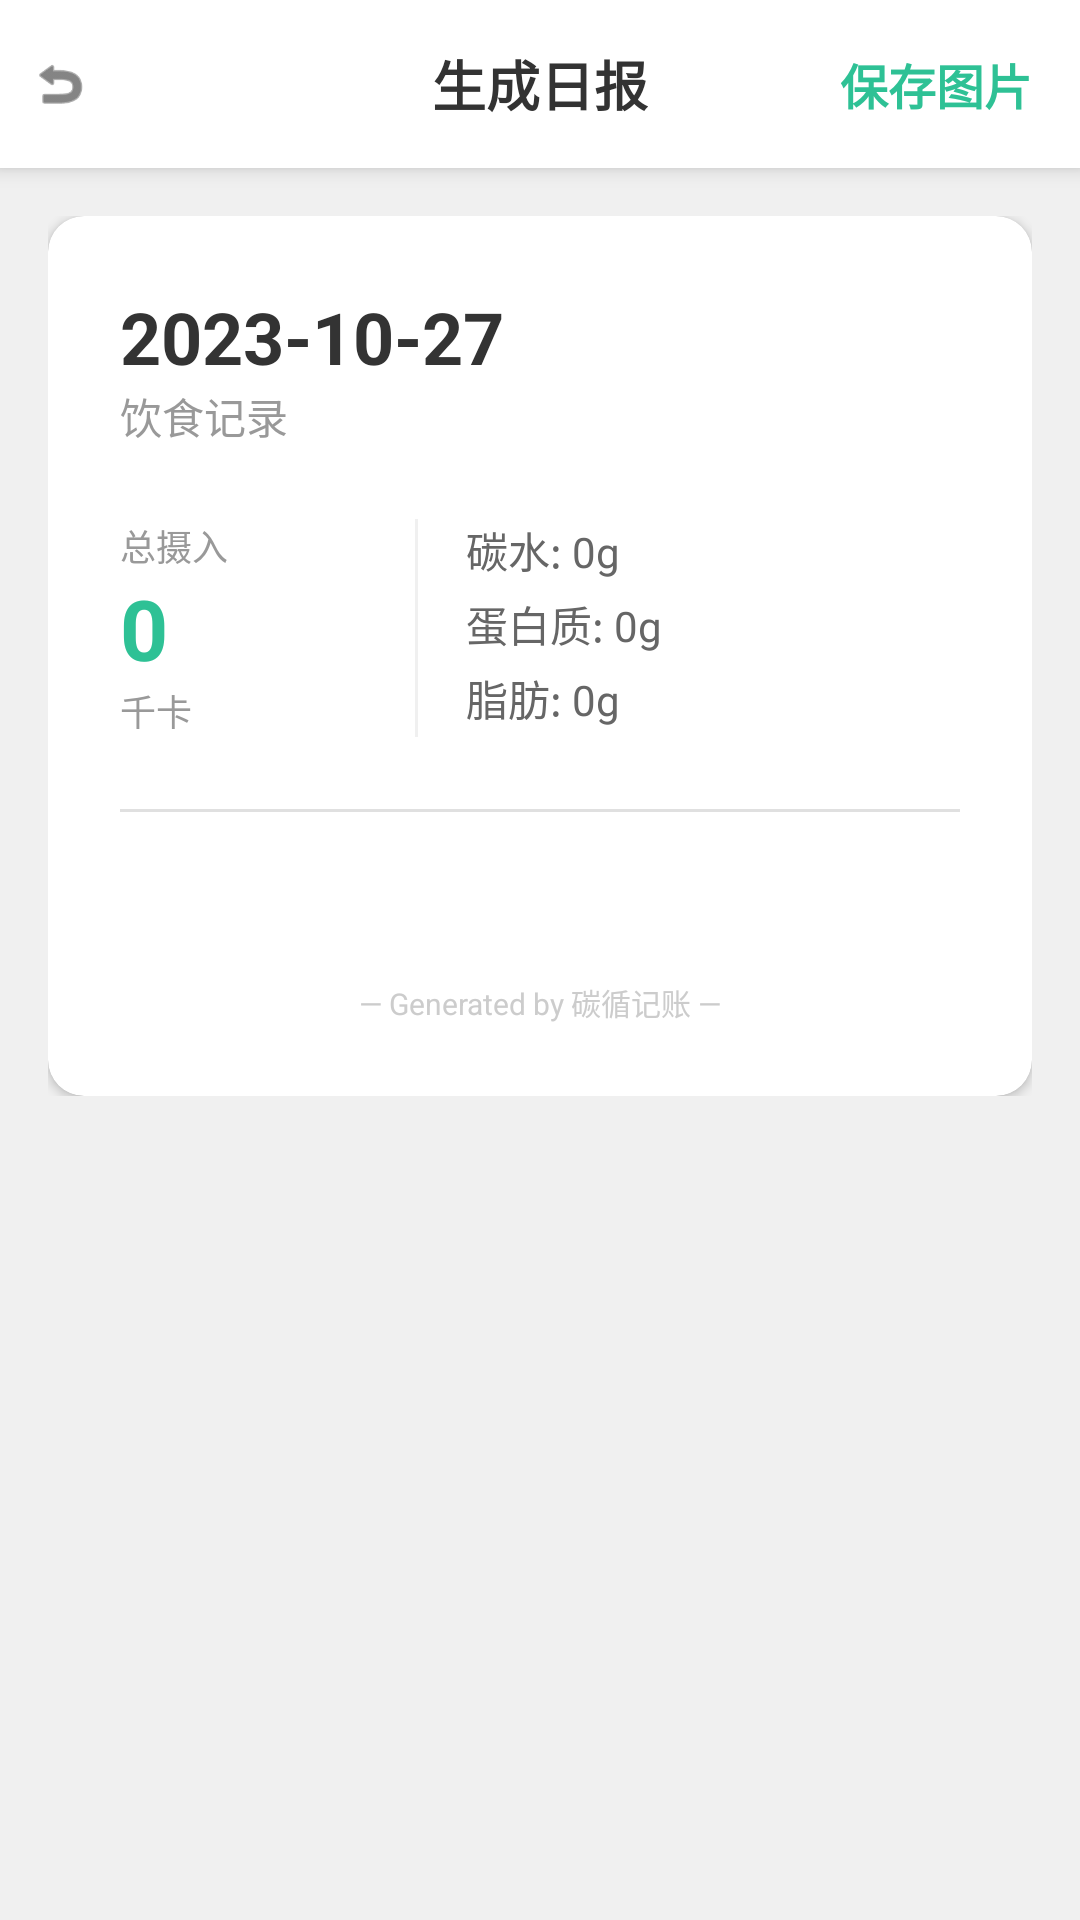

Point at icon controls on the screen. Image size 1080×1920, points as [x,y].
revert: [60,84]
